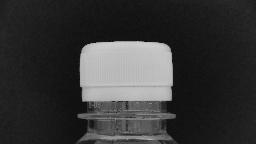Loose Cap: (74, 83, 178, 123)
